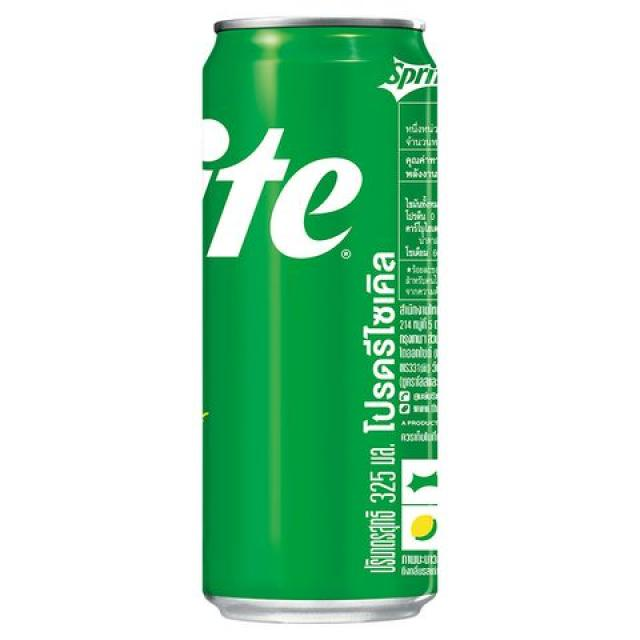sprite: (188, 18, 450, 628)
